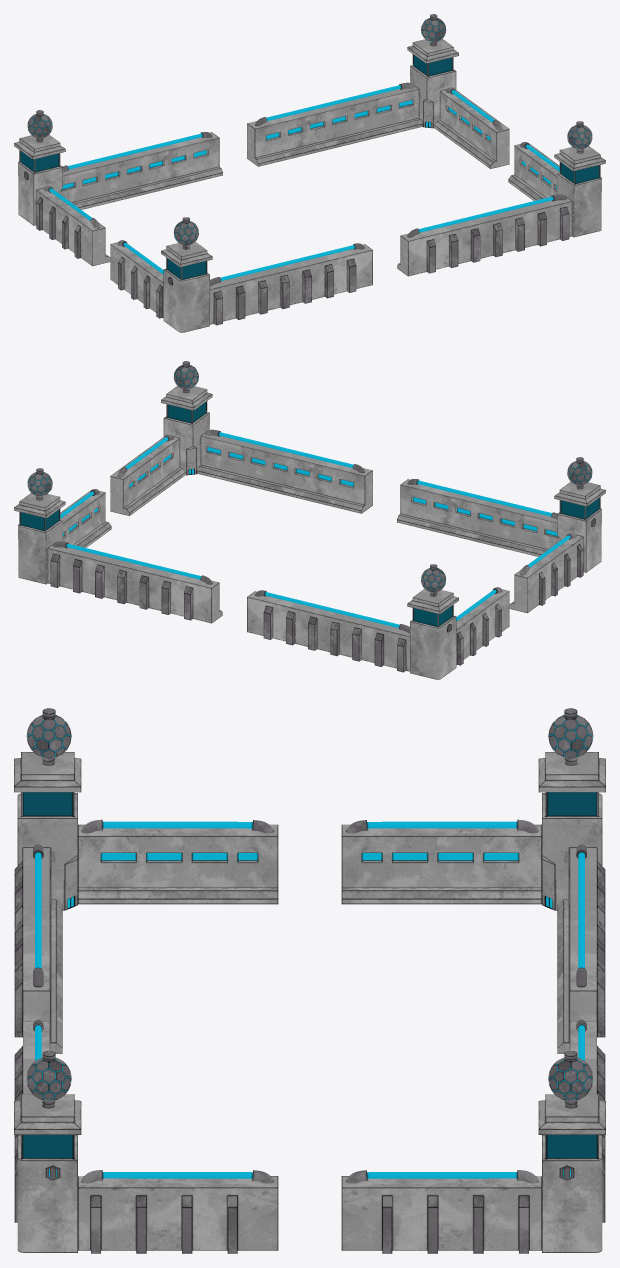
The model's file is SM_Military_Wall.fbx.
The picture shows the model from 3 angles, top to bottom: view 1: azimuth 30°, elevation 25°; view 2: azimuth 150°, elevation 25°; view 3: azimuth 270°, elevation 25°; orthographic projection. The views are drawn at different scales.
Visible parts, largest first — view 1: SM_Mural; view 2: SM_Mural; view 3: SM_Mural.
Part boxes in pixels (x1=…): SM_Mural: x1=14, y1=14, x2=605, y2=332; SM_Mural: x1=14, y1=361, x2=605, y2=679; SM_Mural: x1=14, y1=708, x2=605, y2=1253.
Size of the model in its own units: 6354 by 1493 by 4287.
